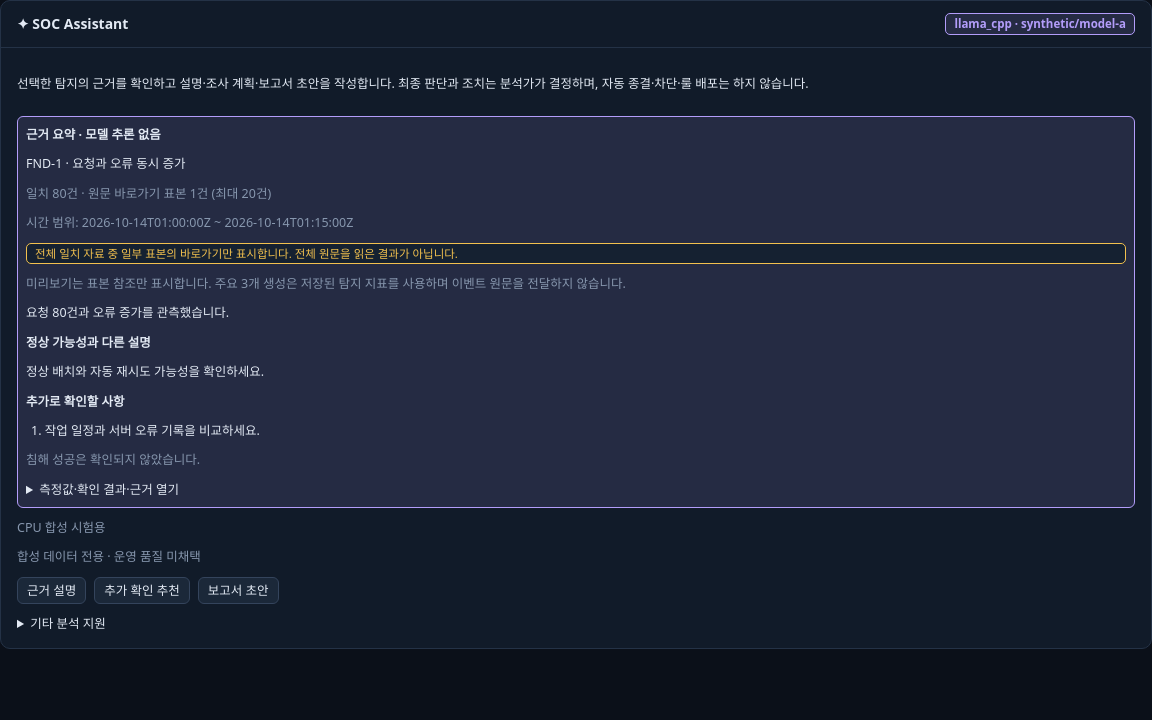
Test: ignores a late answer after the finding changes and prevents duplicate generation
The image size is (1152, 720).
Expected: the text "요청 80건과 오류 증가를 관측했습니다." is shown, [26, 304, 229, 322]
Click the button "근거 설명" at (52, 591), box [17, 577, 86, 604]
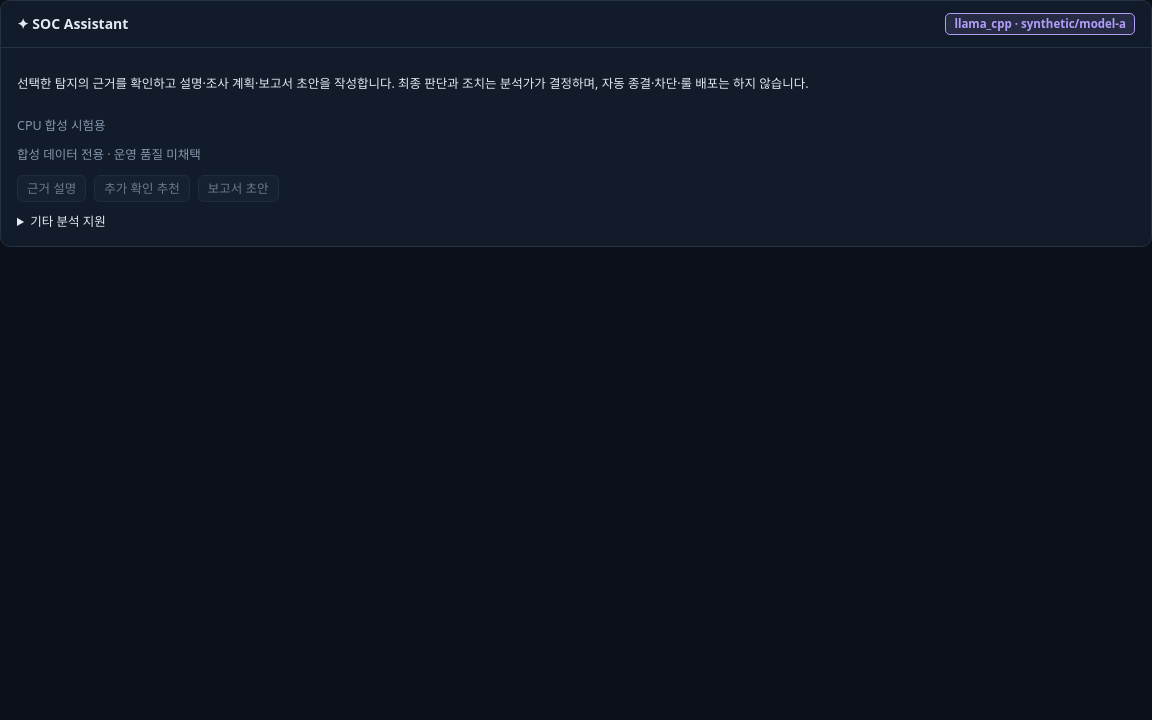
Expected: the button "추가 확인 추천" is disabled, [94, 175, 190, 202]
